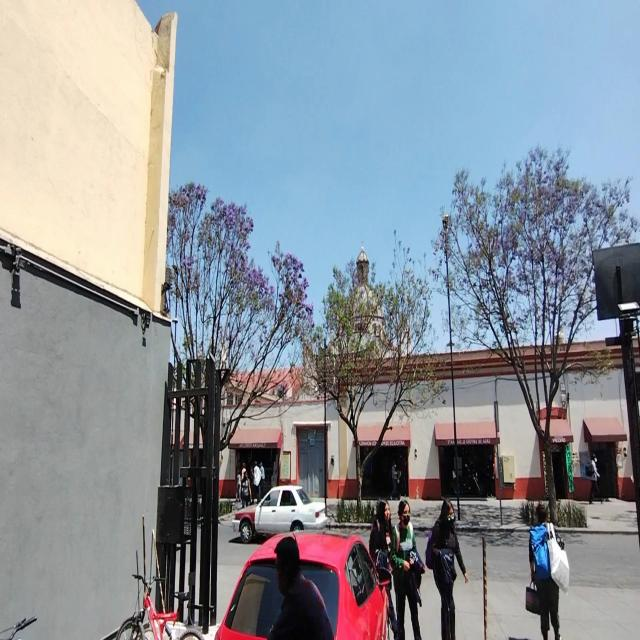adult: (268, 536, 334, 640), (428, 500, 468, 640), (528, 503, 566, 640), (392, 500, 422, 640), (369, 500, 394, 630)
